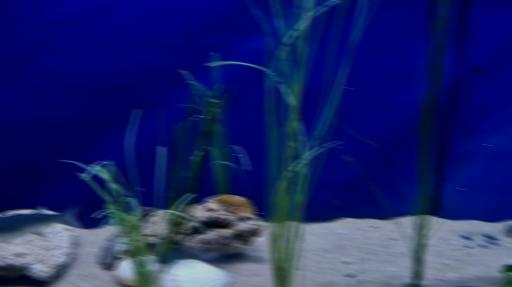Fish: (0, 204, 82, 239)
